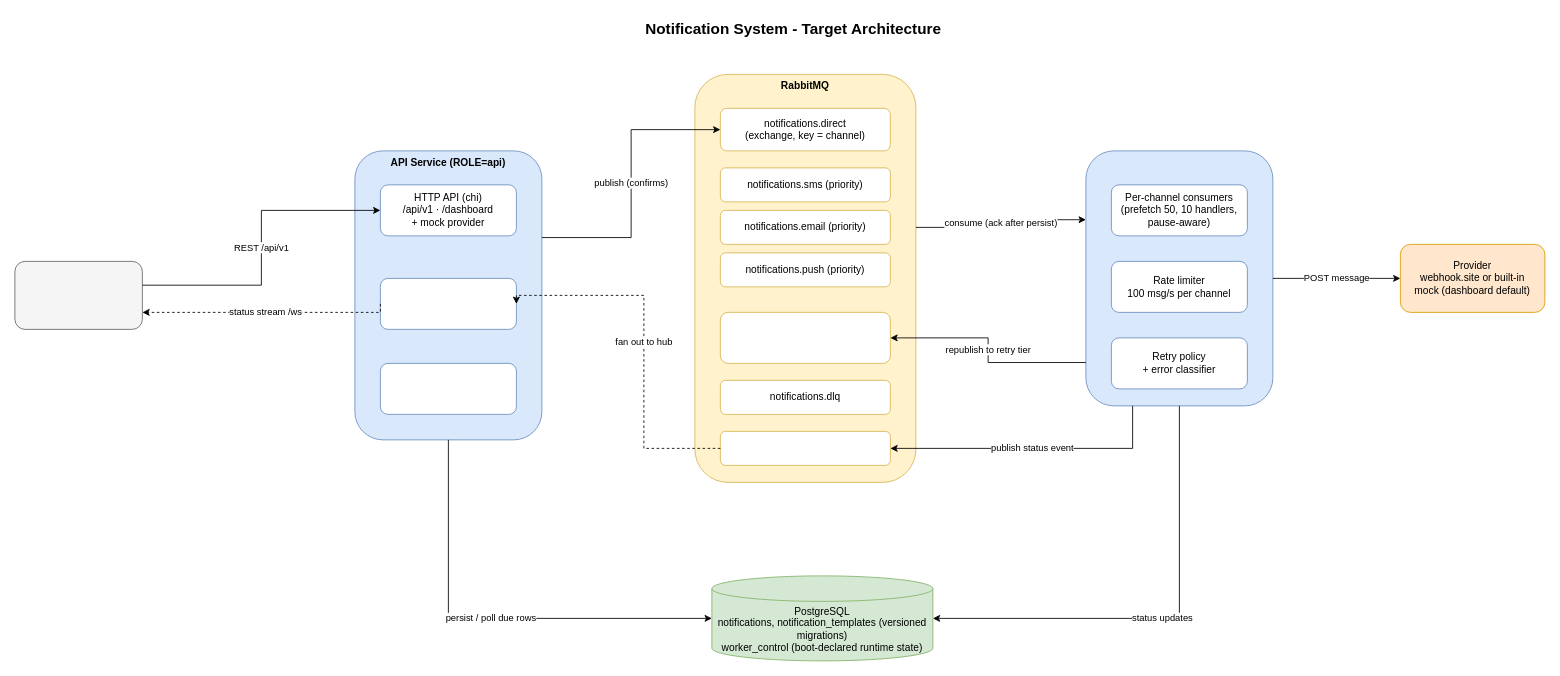
Image size: 1560x676. Some labels were removed from this diagram. The shapes that lost their labels are listed below. From the top down, each one's box as (x1, y1, x2, y2) in pixels, then its label:
(14, 261, 142, 329): API Consumer
(1085, 150, 1273, 406): Worker (ROLE=worker)
(380, 278, 516, 329): WebSocket Hub /ws
(720, 312, 890, 363): retry queues 5s / 30s / 120s (TTL → dead-letter back)
(380, 363, 516, 414): Scheduler (FOR UPDATE SKIP LOCKED)
(720, 431, 890, 465): notifications.events (fanout)
